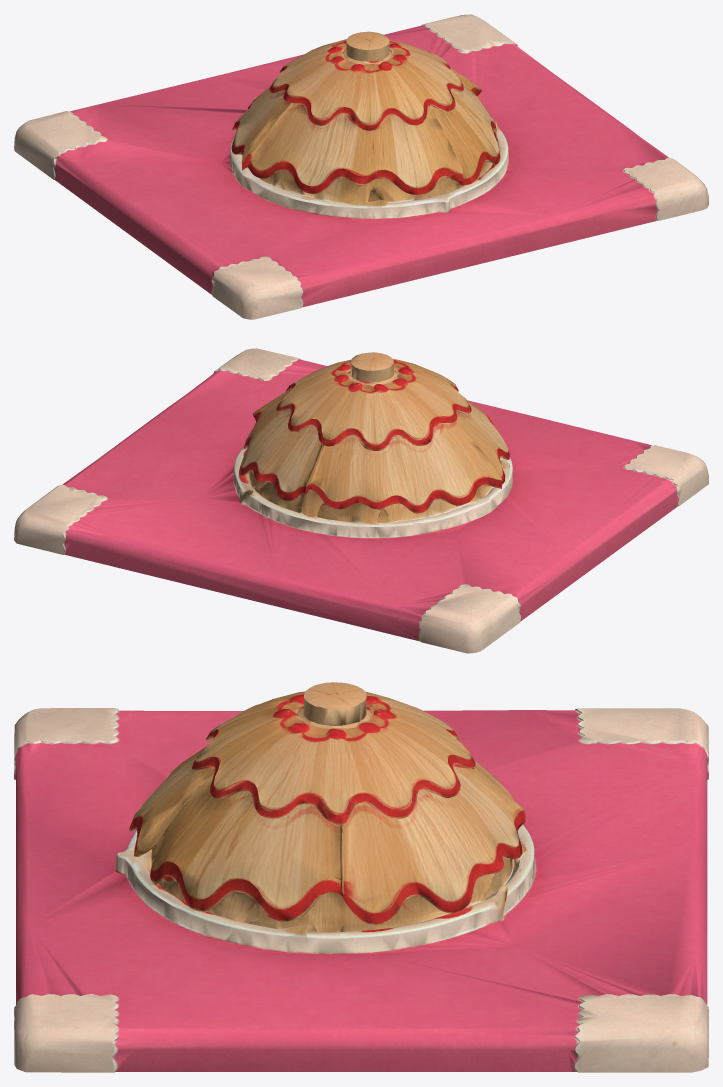
File: 8-topper.fbx
3 renders of one model, top to bottom at view 1: azimuth 30°, elevation 25°; view 2: azimuth 150°, elevation 25°; view 3: azimuth 270°, elevation 25°, orthographic. The views are drawn at different scales.
Parts seen in each view (by area): view 1: topper; view 2: topper; view 3: topper.
Part boxes in pixels (x1,y1,x2,y2): topper: (14,14,708,319); topper: (14,348,708,653); topper: (14,682,708,1072).
Bounding box in the file's own units: 9477 × 2814 × 8385.
1 material, 1 textured.
